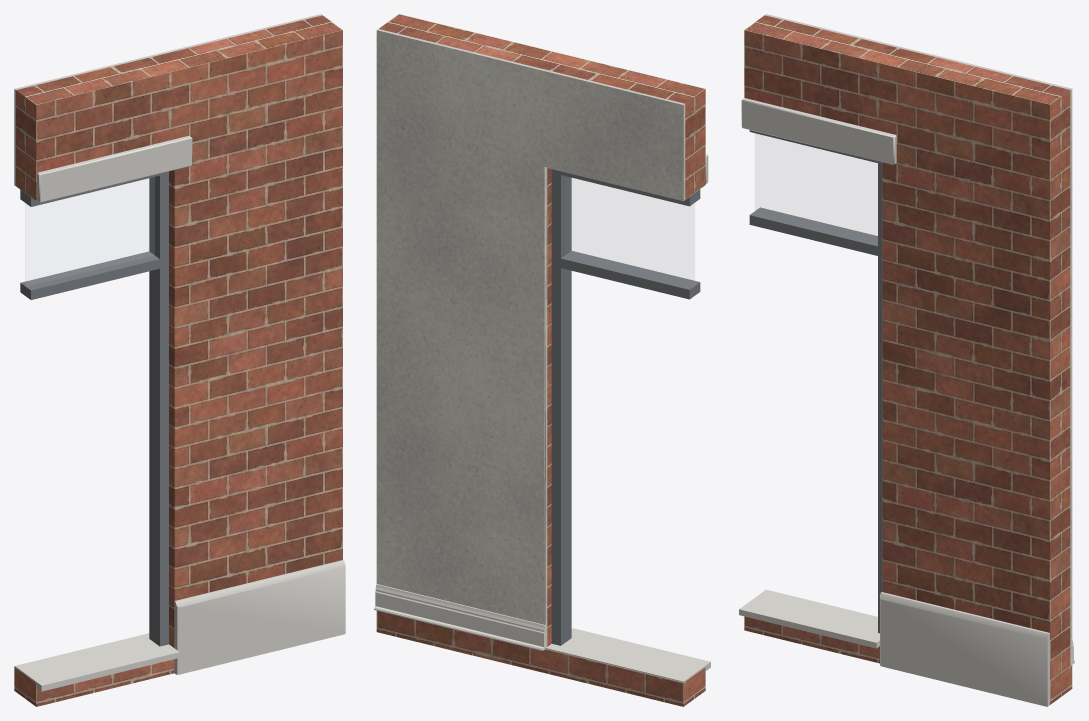
File: pg_door_r.glb
The picture shows the model from 3 angles, left to right: view 1: azimuth 30°, elevation 25°; view 2: azimuth 150°, elevation 25°; view 3: azimuth 330°, elevation 25°; orthographic projection.
Visible parts, largest first — view 1: pg_door_r_brick, pg_door_r_cill, pg_door_r_frame, pg_door_r_glass, pg_door_r_plaster; view 2: pg_door_r_plaster, pg_door_r_brick, pg_door_r_frame, pg_door_r_glass, molduras, pg_door_r_cill; view 3: pg_door_r_brick, pg_door_r_cill, pg_door_r_glass, pg_door_r_frame, pg_door_r_plaster.
Part boxes in pixels (x1,y1,x2,y2): pg_door_r_brick: (14,15,342,706); pg_door_r_cill: (14,135,345,691); pg_door_r_frame: (20,171,168,646); pg_door_r_glass: (26,177,154,285); pg_door_r_plaster: (14,14,322,185); pg_door_r_plaster: (376,29,685,648); pg_door_r_brick: (376,14,705,706); pg_door_r_frame: (551,169,700,645); pg_door_r_glass: (566,177,694,285); molduras: (374,584,545,650); pg_door_r_cill: (546,154,710,682); pg_door_r_brick: (744,15,1072,704); pg_door_r_cill: (739,98,1049,706); pg_door_r_glass: (755,134,877,240); pg_door_r_frame: (749,130,882,633); pg_door_r_plaster: (765,14,1072,665).
Bounding box in the file's own units: 2 × 3.75 × 0.34.
Materials: 6 (2 with a texture image).
